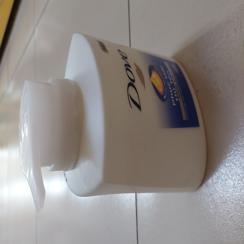dove: (11, 29, 214, 217)
